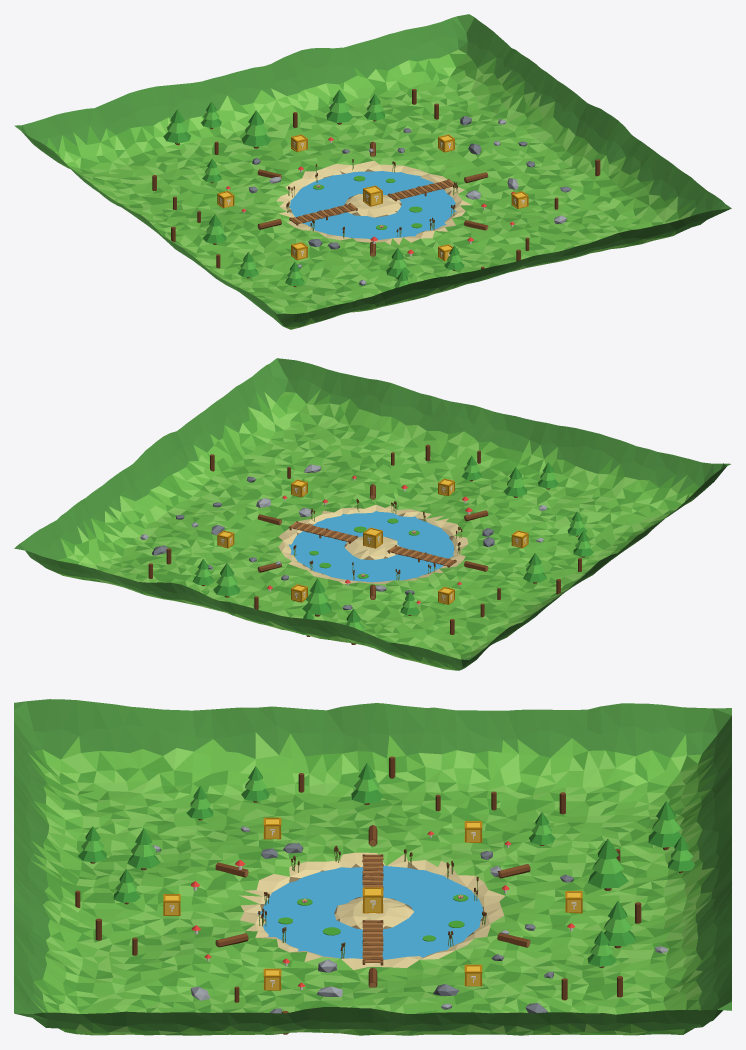
File: Mapa_Staw.fbx
3 renders of one model, top to bottom at view 1: azimuth 30°, elevation 25°; view 2: azimuth 150°, elevation 25°; view 3: azimuth 270°, elevation 25°, orthographic. The views are drawn at different scales.
Parts seen in each view (by area): view 1: Teren, Woda, Drzewo4, Drzewo13, Most1, Drzewo7, Most2; view 2: Teren, Woda, Drzewo4, Most2, Most1, Drzewo7; view 3: Teren, Woda, Drzewo4, Drzewo13, Drzewo7, Most2, Drzewo9, Drzewo17, Most1, Drzewo5, Drzewo11, Drzewo1 (+4 smaller).
Boxes of the visible parts, x1,y1,x2,y2 form: Teren: [14, 14, 731, 329]; Woda: [289, 171, 456, 239]; Drzewo4: [241, 110, 271, 148]; Drzewo13: [163, 109, 190, 145]; Most1: [289, 203, 357, 225]; Drzewo7: [326, 89, 353, 124]; Most2: [387, 179, 456, 201]; Teren: [14, 358, 730, 670]; Woda: [288, 511, 454, 582]; Drzewo4: [302, 578, 331, 616]; Most2: [288, 521, 358, 543]; Most1: [387, 545, 456, 567]; Drzewo7: [213, 563, 240, 597]; Teren: [14, 699, 731, 1035]; Woda: [257, 865, 483, 959]; Drzewo4: [588, 839, 628, 890]; Drzewo13: [648, 801, 685, 850]; Drzewo7: [603, 901, 636, 948]; Most2: [362, 920, 383, 965]; Drzewo9: [351, 763, 383, 804]; Drzewo17: [127, 828, 160, 870]; Most1: [362, 854, 383, 897]; Drzewo5: [78, 826, 106, 863]; Drzewo11: [587, 930, 616, 967]; Drzewo1: [668, 836, 695, 873].
Size of the model in its own units: 150 by 17 by 150.
1 material, 1 textured.
